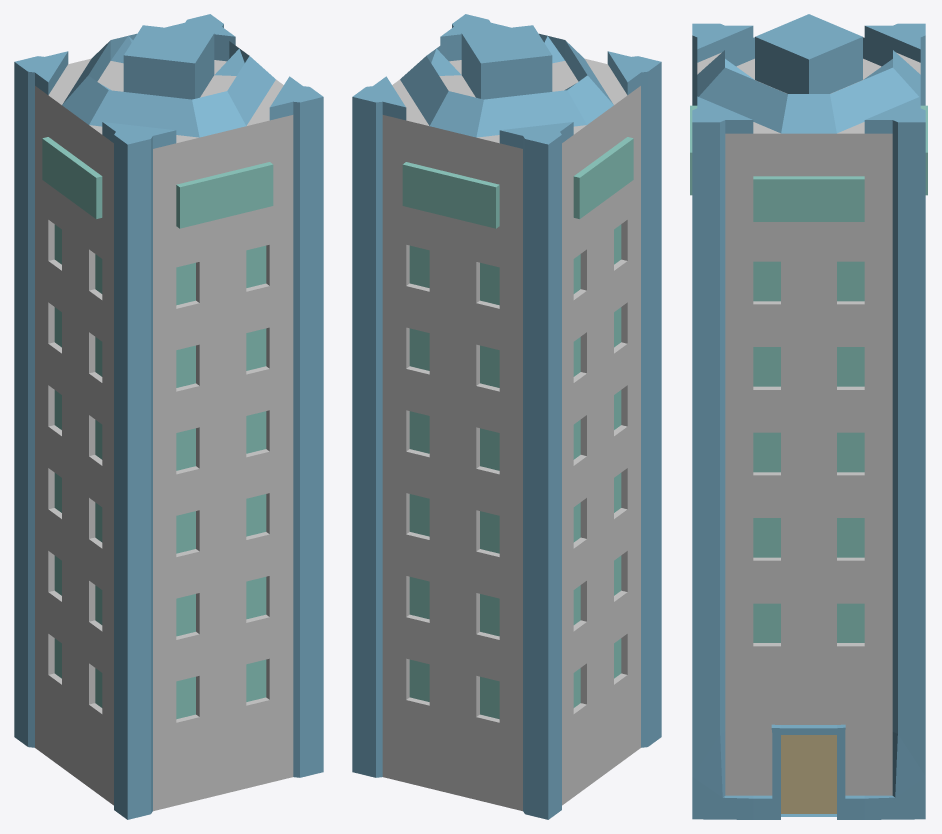
The model's file is Highrise1_1.fbx.
3 views of the same model, side by side, from view 1: azimuth 30°, elevation 25°; view 2: azimuth 150°, elevation 25°; view 3: azimuth 270°, elevation 25° (orthographic). The views are drawn at different scales.
Visible parts, largest first — view 1: Cube; view 2: Cube; view 3: Cube.
Part boxes in pixels (<box>): Cube: <box>14,14,323,819</box>; Cube: <box>352,14,661,819</box>; Cube: <box>690,14,927,819</box>.
Bounding box in the file's own units: 160 × 544 × 160.
